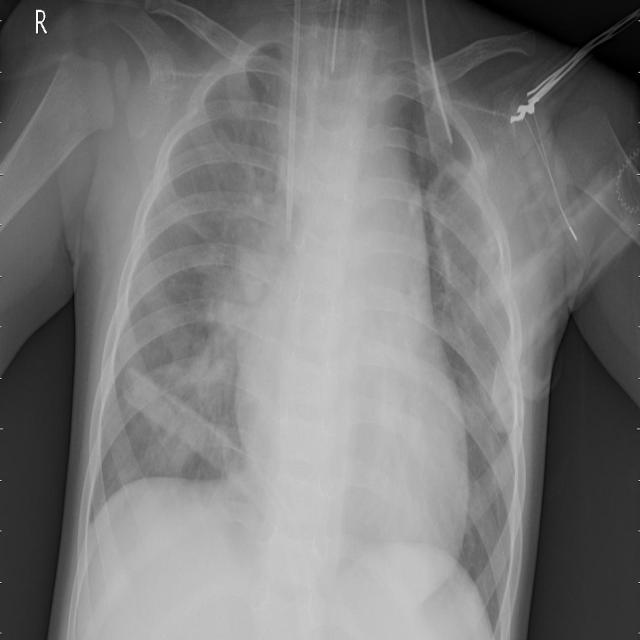low-pneumonia: (190, 90, 283, 342), (130, 334, 239, 479), (438, 158, 515, 355), (462, 362, 528, 552)
